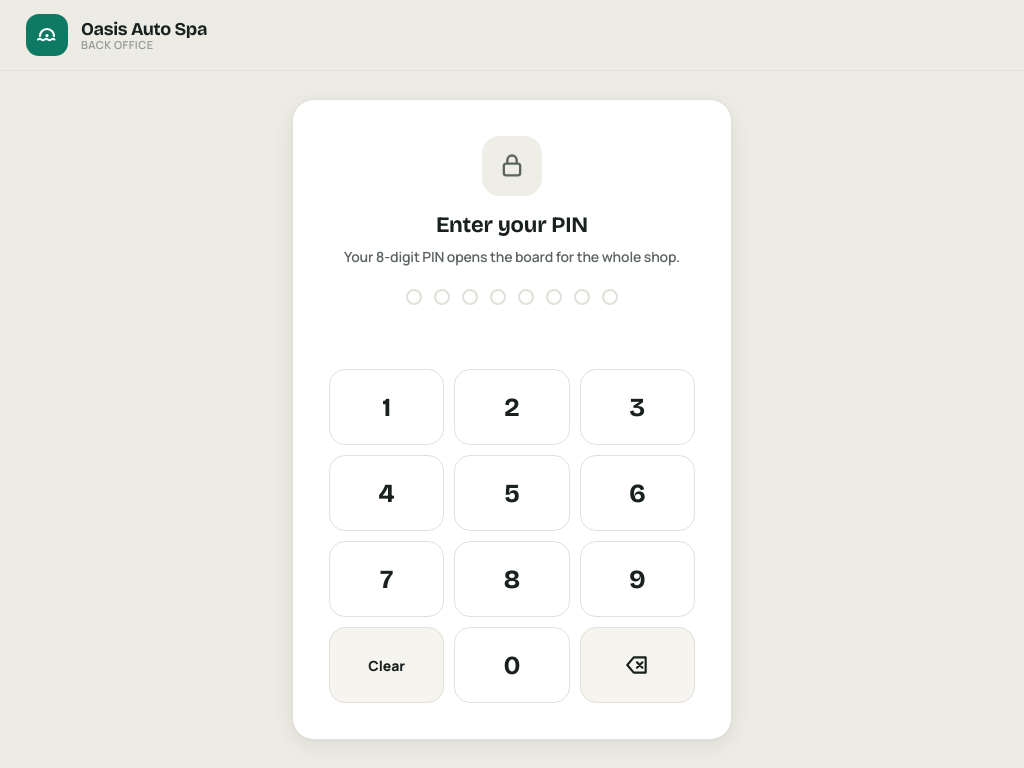
KeypadPage › 0218 swaps in the email/password card at once and sends nothing; Back to keypad returns
The width and height of the screenshot is (1024, 768).
Click the button "0": (512, 665) [454,627,570,703]
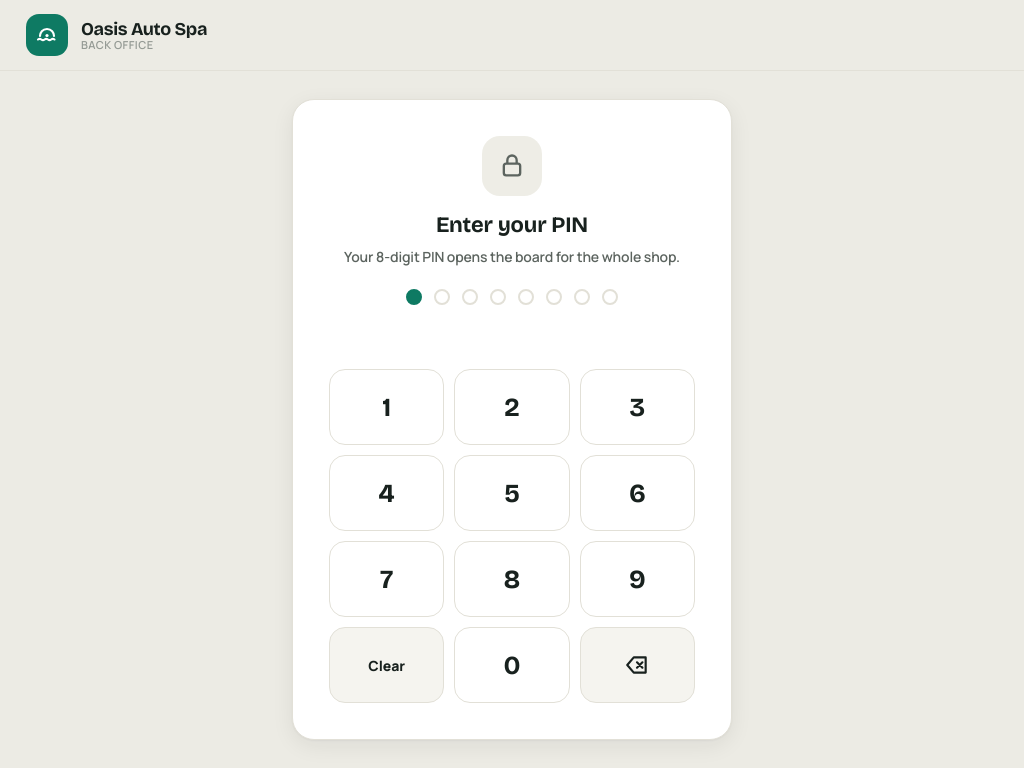
Click the button "2": (512, 407) [454,369,570,445]
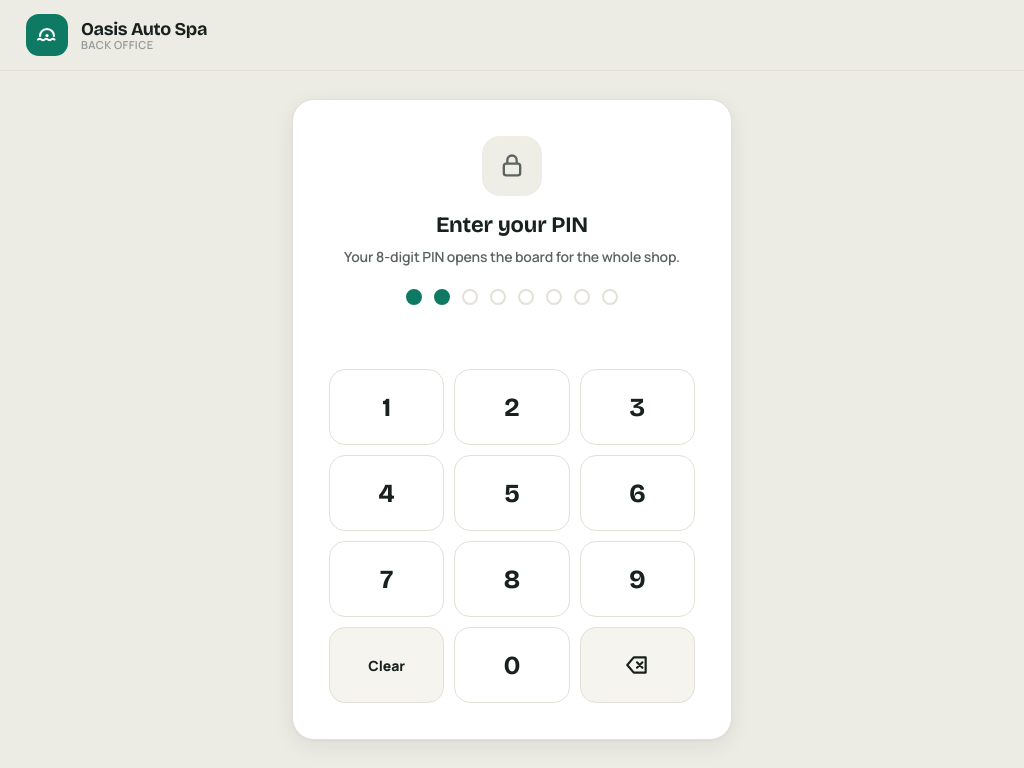
Click the button "1": (387, 407) [329,369,444,445]
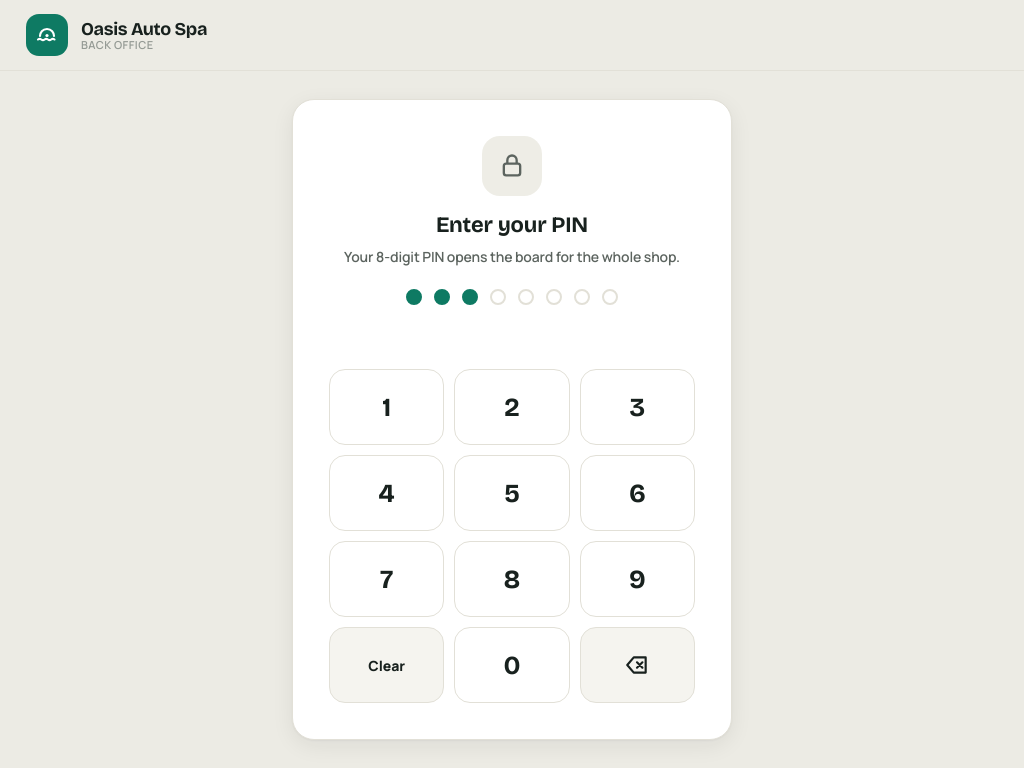
Click the button "8": (512, 579) [454,541,570,617]
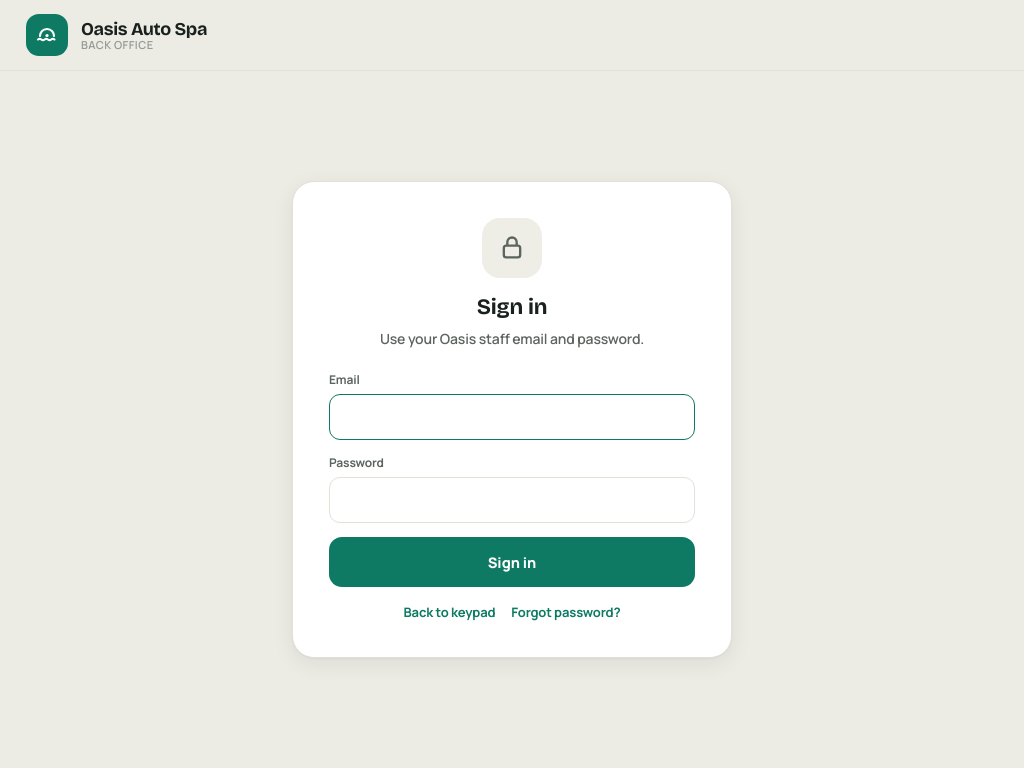
Now the heading "Sign in" is shown, box [477,294,547,320]
Now the field named "email" is shown, box [329,394,695,440]
Click the link "Back to keypad": (450, 612) [404,603,495,621]
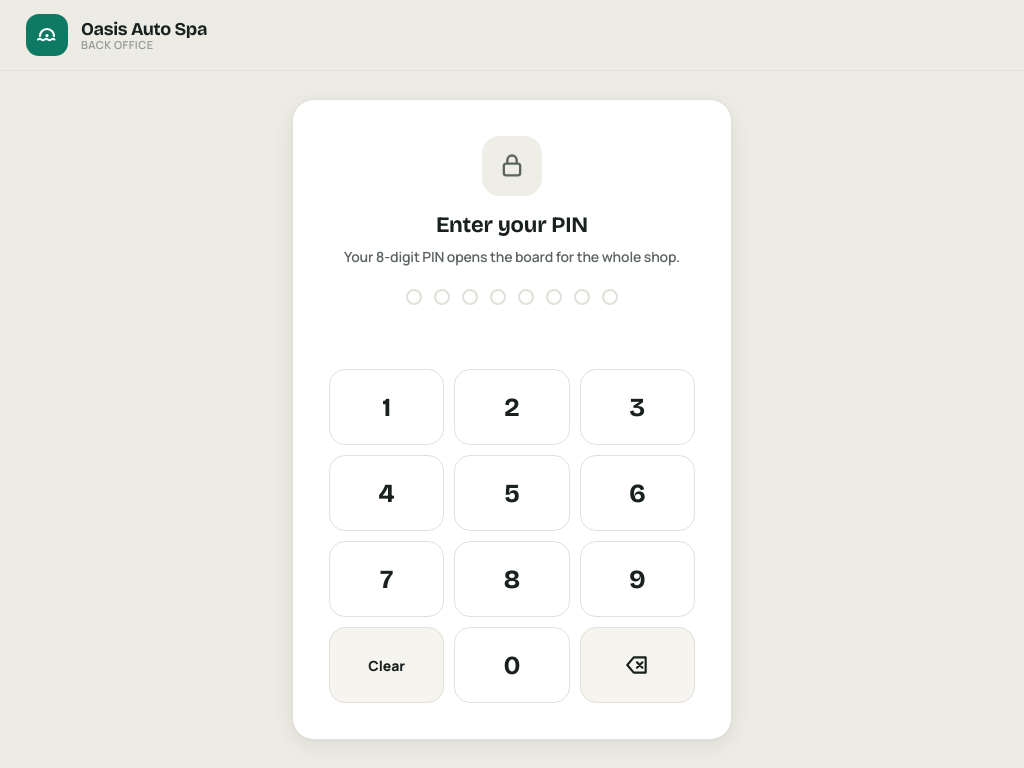
Now the heading "Enter your PIN" is shown, box [436,212,588,238]
